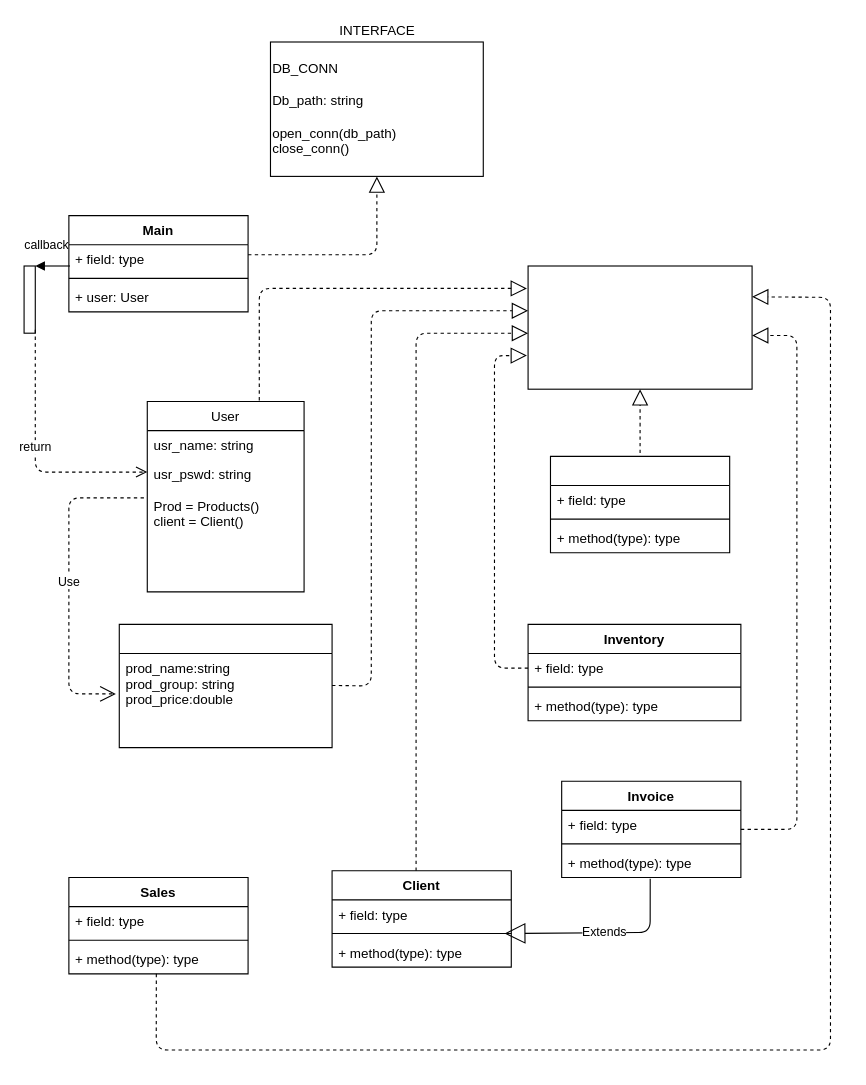
Some shapes in this 866 by 1085 pixel diagram are drawn without their labels. Here are the shapes that lost their labels. From the top down, the box of each, then its label:
(527, 265, 752, 389): «interface» DatabaseController add(datos[]) viewData() modify() delete()
(549, 455, 730, 553): Report
(118, 623, 332, 748): Products
